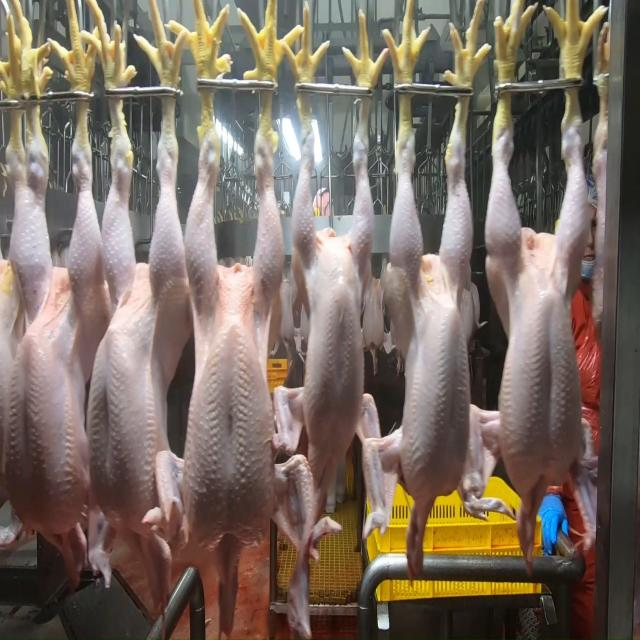chicken: (382, 125, 488, 514), (181, 134, 280, 550), (8, 132, 109, 535), (492, 110, 597, 490), (102, 128, 191, 532), (290, 154, 374, 483)
